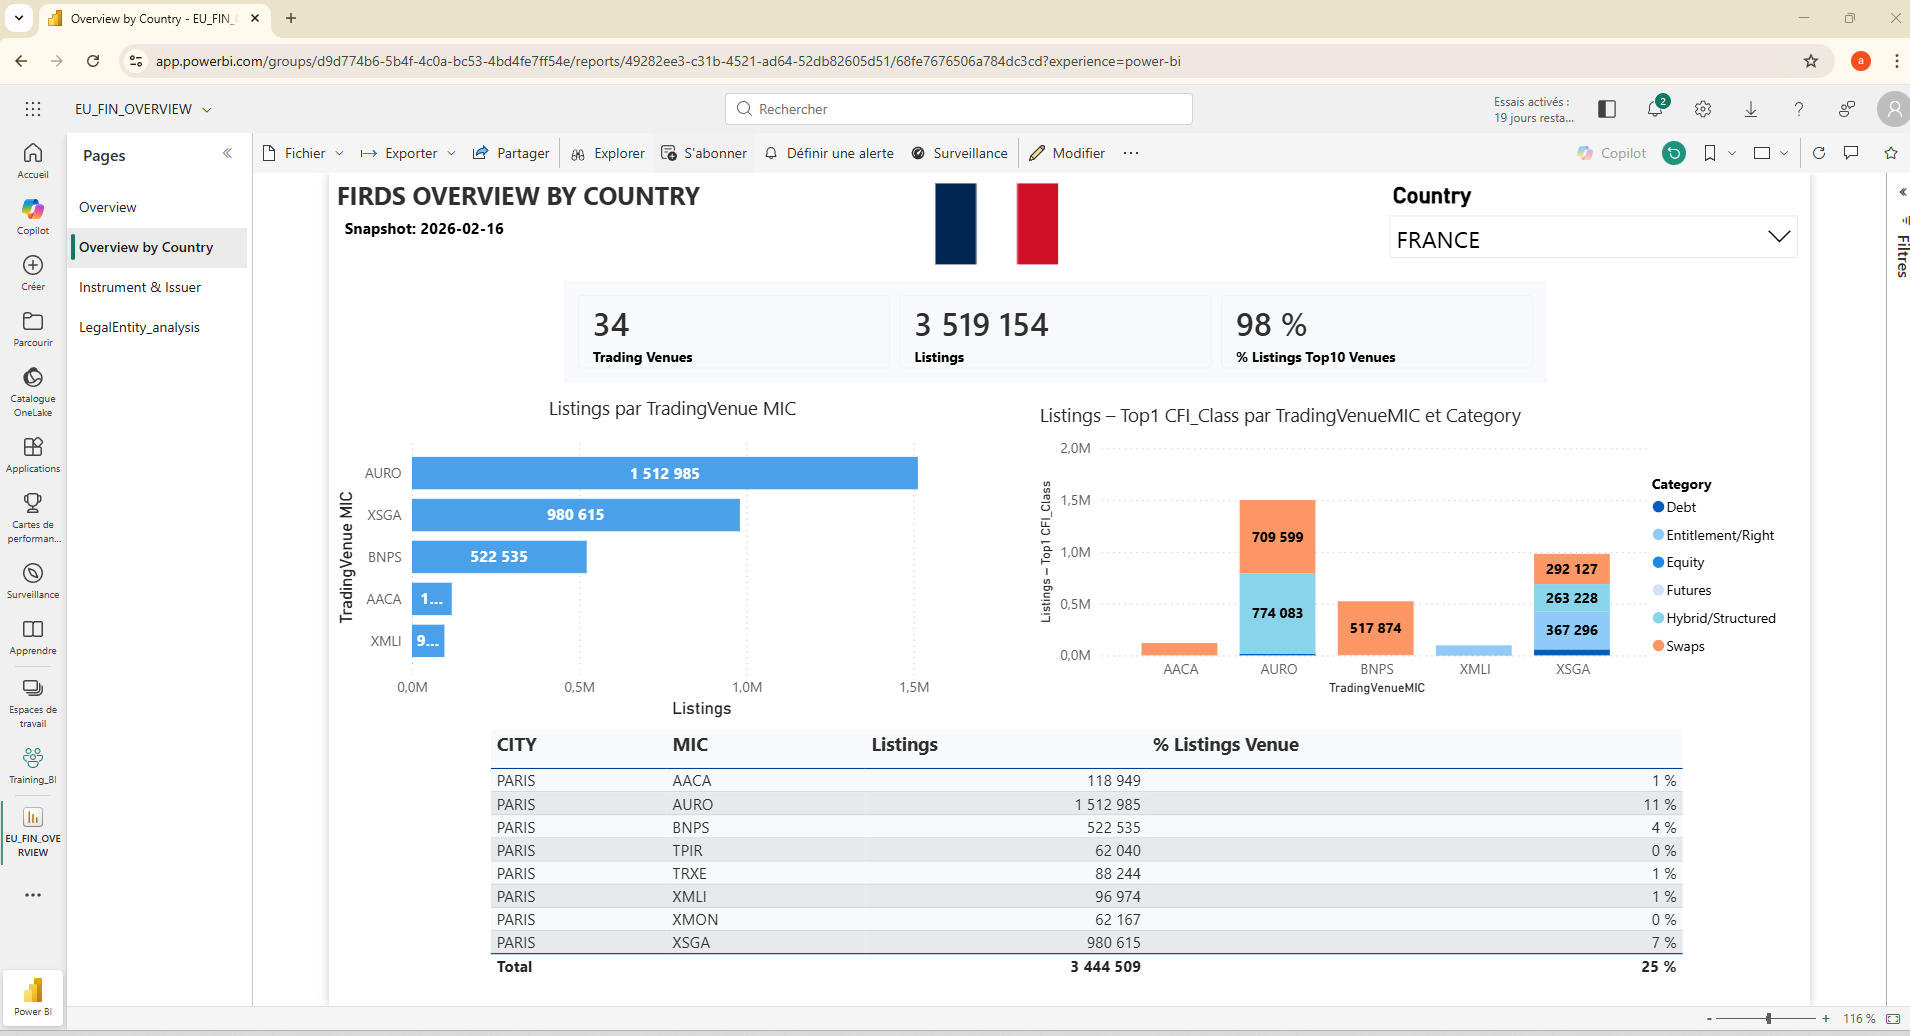

This screenshot's page, from the dashboard's own definition file:
{"tool":"powerbi","page":{"name":"Overview by Country","canvas":[1280,720],"ordinal":1},"visuals":[{"type":"group","id":"g1","title":"Groupe 2","box":[1.8,0,335.3,69.2],"z":0},{"type":"textbox","box":[2.1,0,335,45.3],"z":0,"group":"g1"},{"type":"card","fields":{"Values":["Table_Mesures.Trading v analysis Subtitle"]},"box":[1.8,30.1,166.3,39],"z":1000,"group":"g1"},{"type":"cardVisual","fields":{"Data":["Table_Mesures.Trading Venues","Table_Mesures.Listings","Table_Mesures.% Listings Top10 Venues"]},"box":[197.7,87.8,862.8,98.4],"z":1000},{"type":"barChart","fields":{"Category":["DimTradingVenue.TradingVenueMIC","ISO10383_MIC.CITY"],"Y":["Table_Mesures.Listings"]},"box":[2,192,590,284],"z":2000},{"type":"columnChart","fields":{"Category":["DimTradingVenue.TradingVenueMIC"],"Y":["Table_Mesures.Listings – Top5 CFI"],"Series":["DimCFI.Category"]},"box":[609,198,656,258],"z":3000},{"type":"tableEx","fields":{"Values":["ISO10383_MIC.CITY","ISO10383_MIC.MIC","Table_Mesures.Listings","Table_Mesures.% Listings Venue"]},"box":[134,476,1051,229],"z":4000},{"type":"slicer","fields":{"Values":["DimCountry_MIC.countryName"]},"box":[907,3,373,85],"z":5000},{"type":"image","box":[501.8,0,149.6,87.3],"z":6000}]}

Visuals, with their boxes on the page's 1280x720 design canvas (x1, y1, x2, y2). These are canvas units, not pixel positions in the 1910x1036 screenshot, which may show the page scaled, cropped or inside an application window:
"Groupe 2" group: box(2, 0, 337, 69)
textbox: box(2, 0, 337, 45)
card - Table_Mesures.Trading v analysis Subtitle: box(2, 30, 168, 69)
cardVisual - Table_Mesures.Trading Venues x Table_Mesures.Listings: box(198, 88, 1060, 186)
barChart - DimTradingVenue.TradingVenueMIC x ISO10383_MIC.CITY: box(2, 192, 592, 476)
columnChart - DimTradingVenue.TradingVenueMIC x Table_Mesures.Listings – Top5 CFI: box(609, 198, 1265, 456)
tableEx - ISO10383_MIC.CITY x ISO10383_MIC.MIC: box(134, 476, 1185, 705)
slicer - DimCountry_MIC.countryName: box(907, 3, 1280, 88)
image: box(502, 0, 651, 87)
